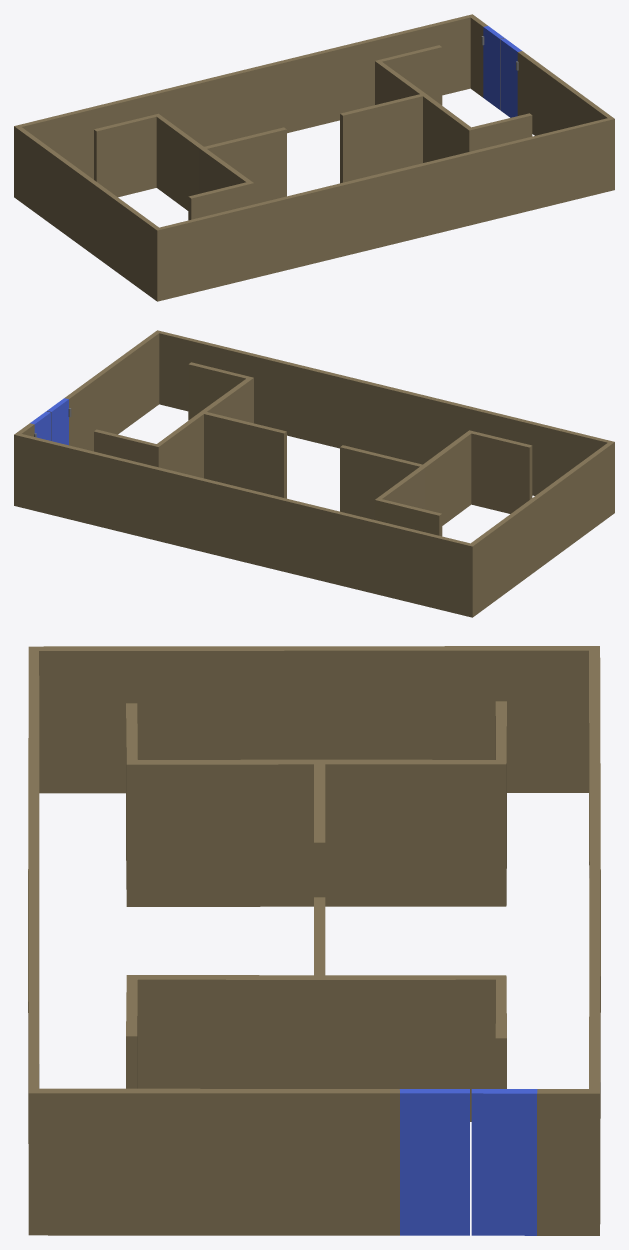
The model's file is levelMGS.fbx.
3 renders of one model, top to bottom at view 1: azimuth 30°, elevation 25°; view 2: azimuth 150°, elevation 25°; view 3: azimuth 270°, elevation 25°, orthographic. The views are drawn at different scales.
Visible parts, largest first — view 1: Plane; view 2: Plane; view 3: Plane.
Boxes of the visible parts, x1,y1,x2,y2 form: Plane: (14, 14, 614, 301); Plane: (14, 330, 614, 617); Plane: (28, 646, 600, 1235).
Size of the model in its own units: 1146 by 170 by 620.
